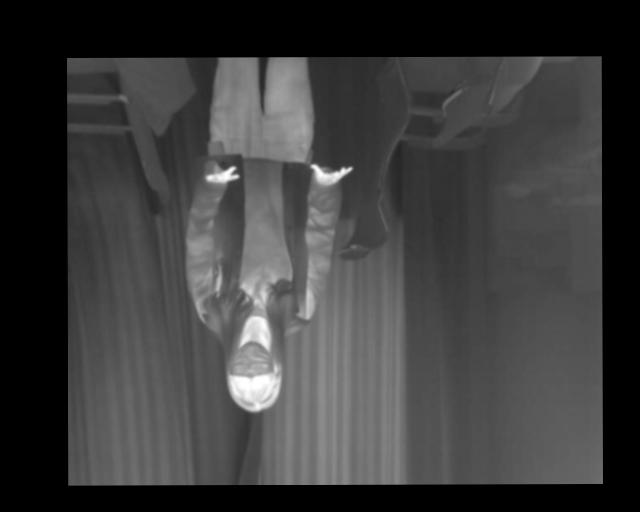face: (227, 339, 282, 412)
